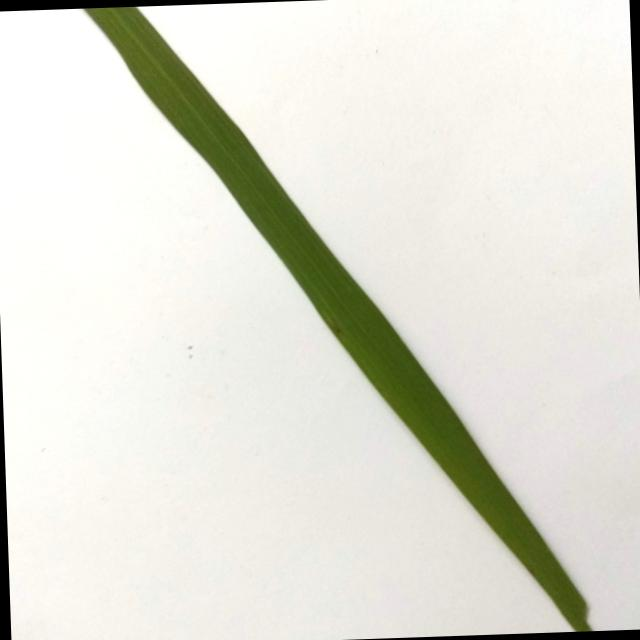Rice_Healthy: (85, 6, 590, 631)
